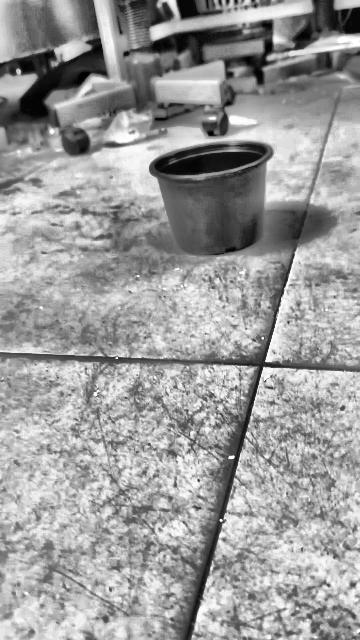pot: (149, 141, 273, 255)
